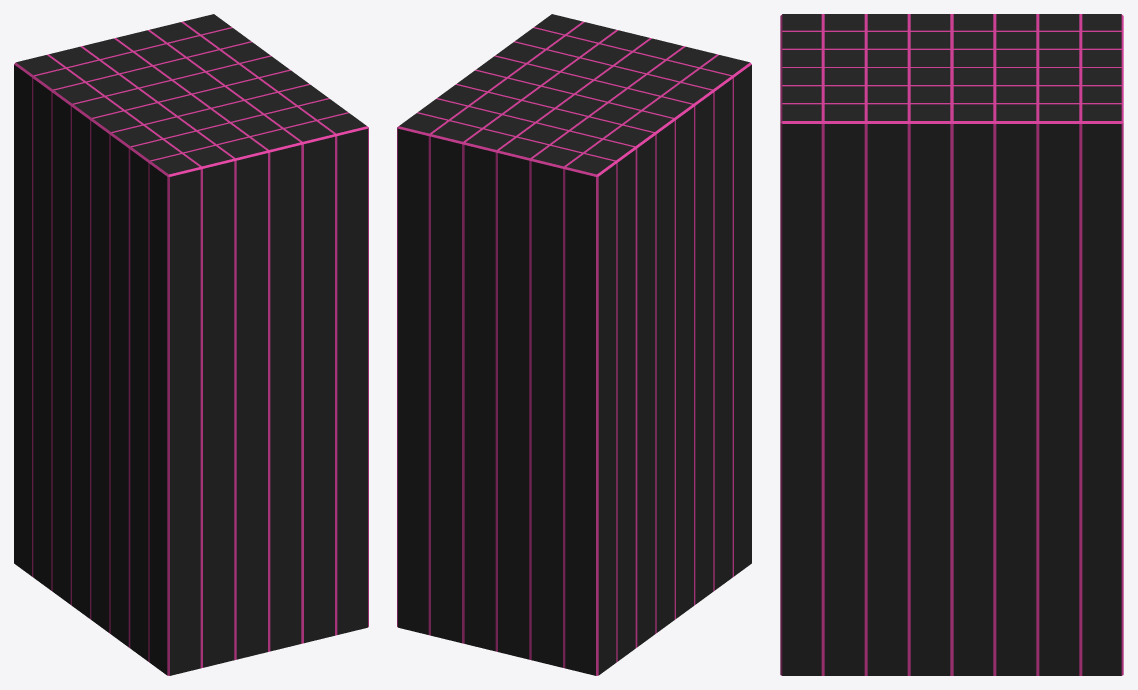
Rendered from Platform2.fbx.
The picture shows the model from 3 angles, left to right: view 1: azimuth 30°, elevation 25°; view 2: azimuth 150°, elevation 25°; view 3: azimuth 270°, elevation 25°; orthographic projection. The views are drawn at different scales.
Parts seen in each view (by area): view 1: polySurface20; view 2: polySurface20; view 3: polySurface20.
Part boxes in pixels (box(x1,y1,x2,y2)): polySurface20: box(14, 14, 368, 675); polySurface20: box(397, 14, 751, 675); polySurface20: box(780, 14, 1123, 675).
Size of the model in its own units: 30 by 71.23 by 40.
2 materials, 2 textured.
